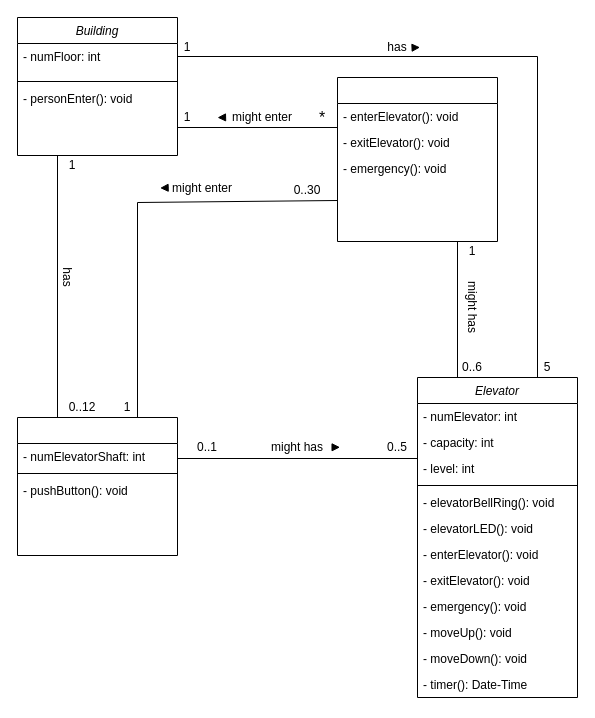
This 595x718 diagram has some shape labels left out. The shapes that lost their labels are listed below. From the top down, each one's box as (x1, y1, x2, y2) in pixels, then its label:
(336, 76, 498, 242): Person
(16, 416, 178, 556): Floor
